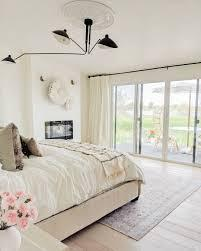bed: (0, 133, 146, 242)
door: (167, 75, 194, 159), (139, 77, 167, 155), (112, 78, 140, 155), (196, 68, 201, 161)
light: (89, 0, 124, 59), (52, 0, 88, 56), (4, 46, 87, 66)
table: (1, 223, 76, 251)
